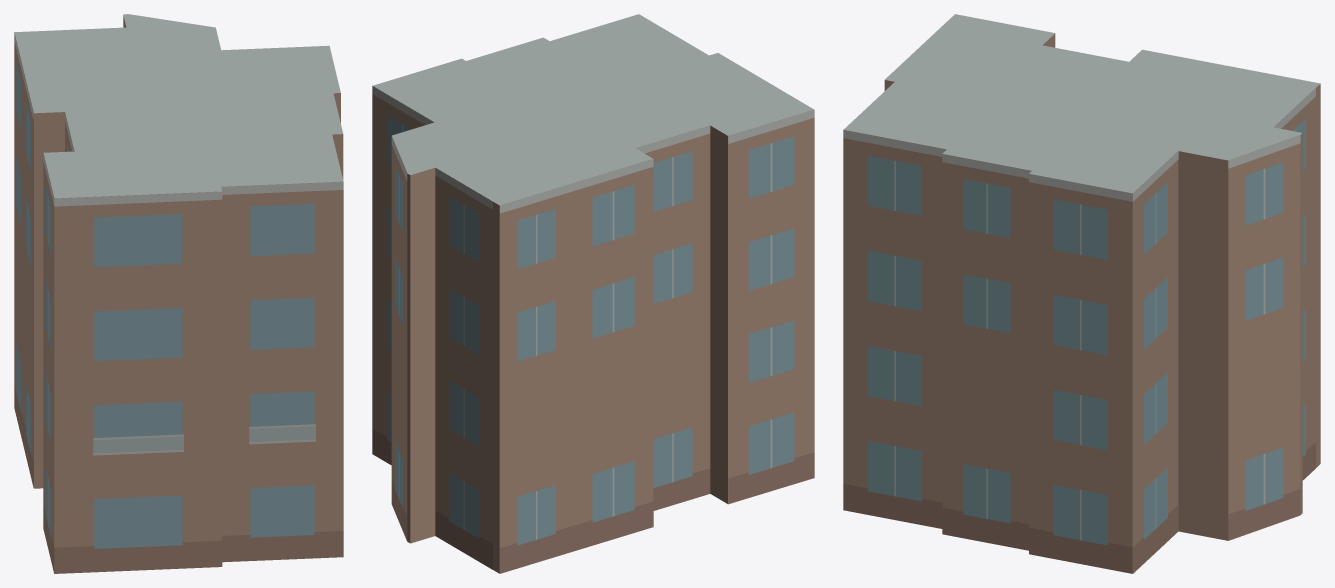
Rendered from survey-upis-32652922.glb.
The picture shows the model from 3 angles, left to right: view 1: azimuth 30°, elevation 25°; view 2: azimuth 150°, elevation 25°; view 3: azimuth 270°, elevation 25°; orthographic projection. The views are drawn at different scales.
Visible parts, largest first — view 1: survey-upis-32652922.tmp; view 2: survey-upis-32652922.tmp; view 3: survey-upis-32652922.tmp.
Part boxes in pixels (x1=…): survey-upis-32652922.tmp: x1=14, y1=14, x2=343, y2=573; survey-upis-32652922.tmp: x1=372, y1=14, x2=814, y2=573; survey-upis-32652922.tmp: x1=843, y1=14, x2=1320, y2=573.
Bounding box in the file's own units: 11.24 × 11.1 × 12.63.
